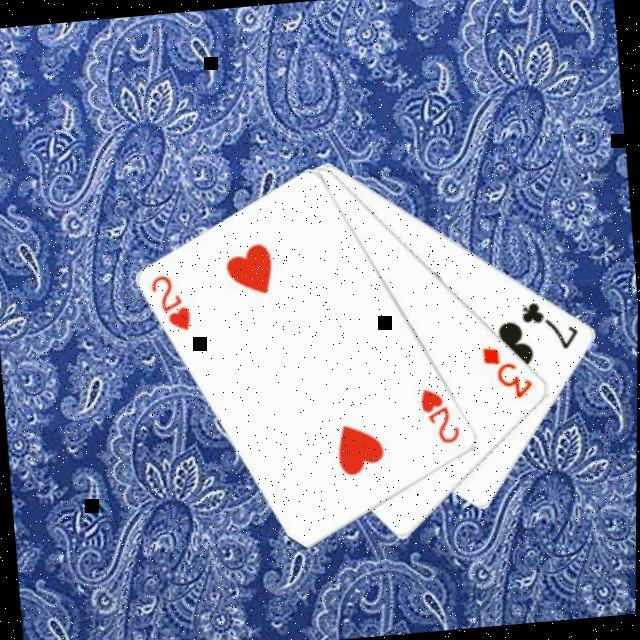2H: (148, 270, 197, 338), (418, 383, 465, 449)
3D: (480, 340, 539, 405)
7C: (518, 294, 585, 356)
